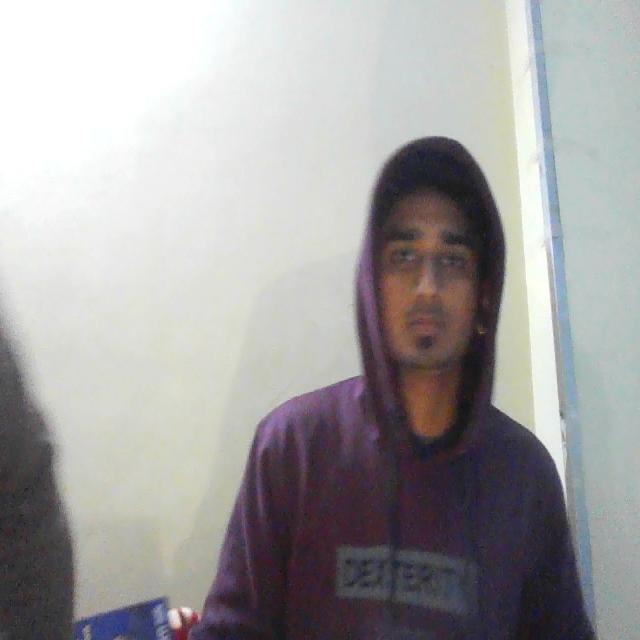real: (366, 145, 499, 396)
